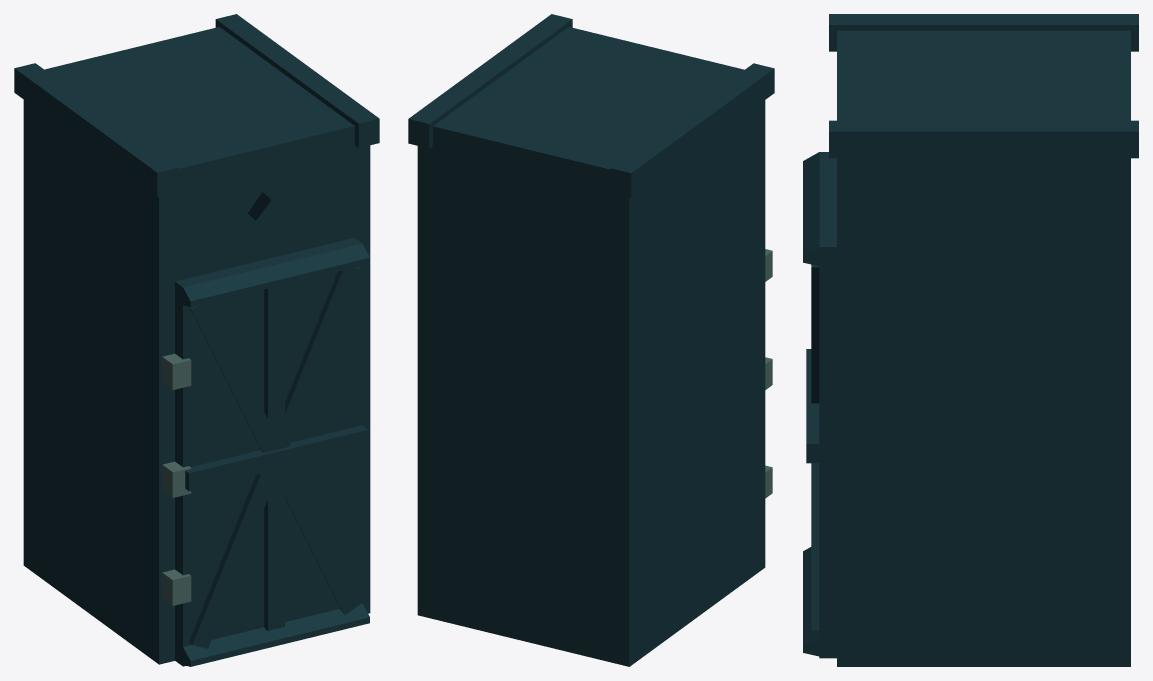
The model's file is store_2.FBX.
The picture shows the model from 3 angles, left to right: view 1: azimuth 30°, elevation 25°; view 2: azimuth 150°, elevation 25°; view 3: azimuth 270°, elevation 25°; orthographic projection. The views are drawn at different scales.
Visible parts, largest first — view 1: store_2; view 2: store_2; view 3: store_2.
Part boxes in pixels (x1,y1,x2,y2): store_2: [14, 14, 379, 666]; store_2: [408, 14, 774, 666]; store_2: [803, 14, 1138, 666].
Bounding box in the file's own units: 1.43 × 3.04 × 1.72.
Materials: 1 (1 with a texture image).
